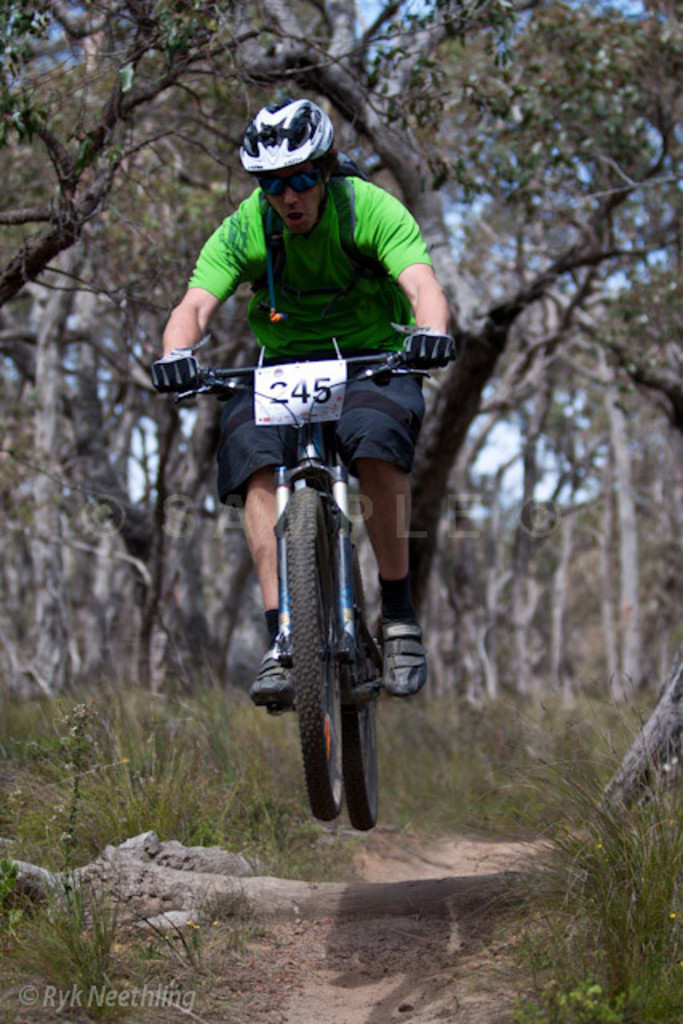Bike_toward: (154, 336, 468, 831)
